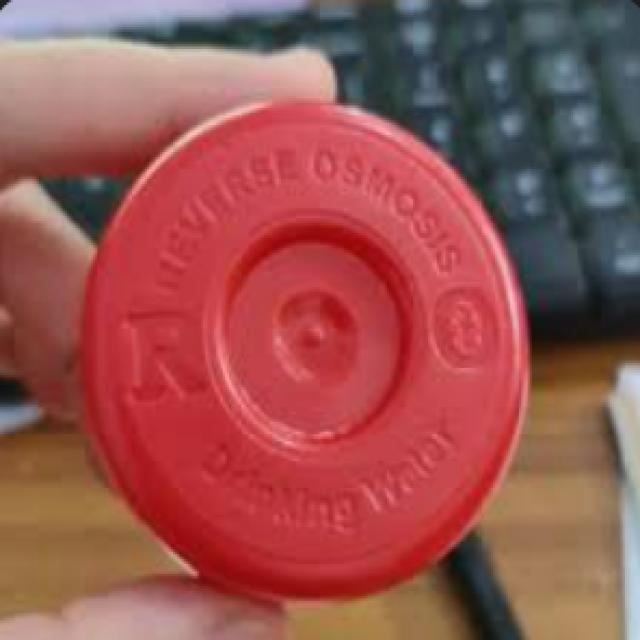TutupGalon: (81, 85, 527, 598)
